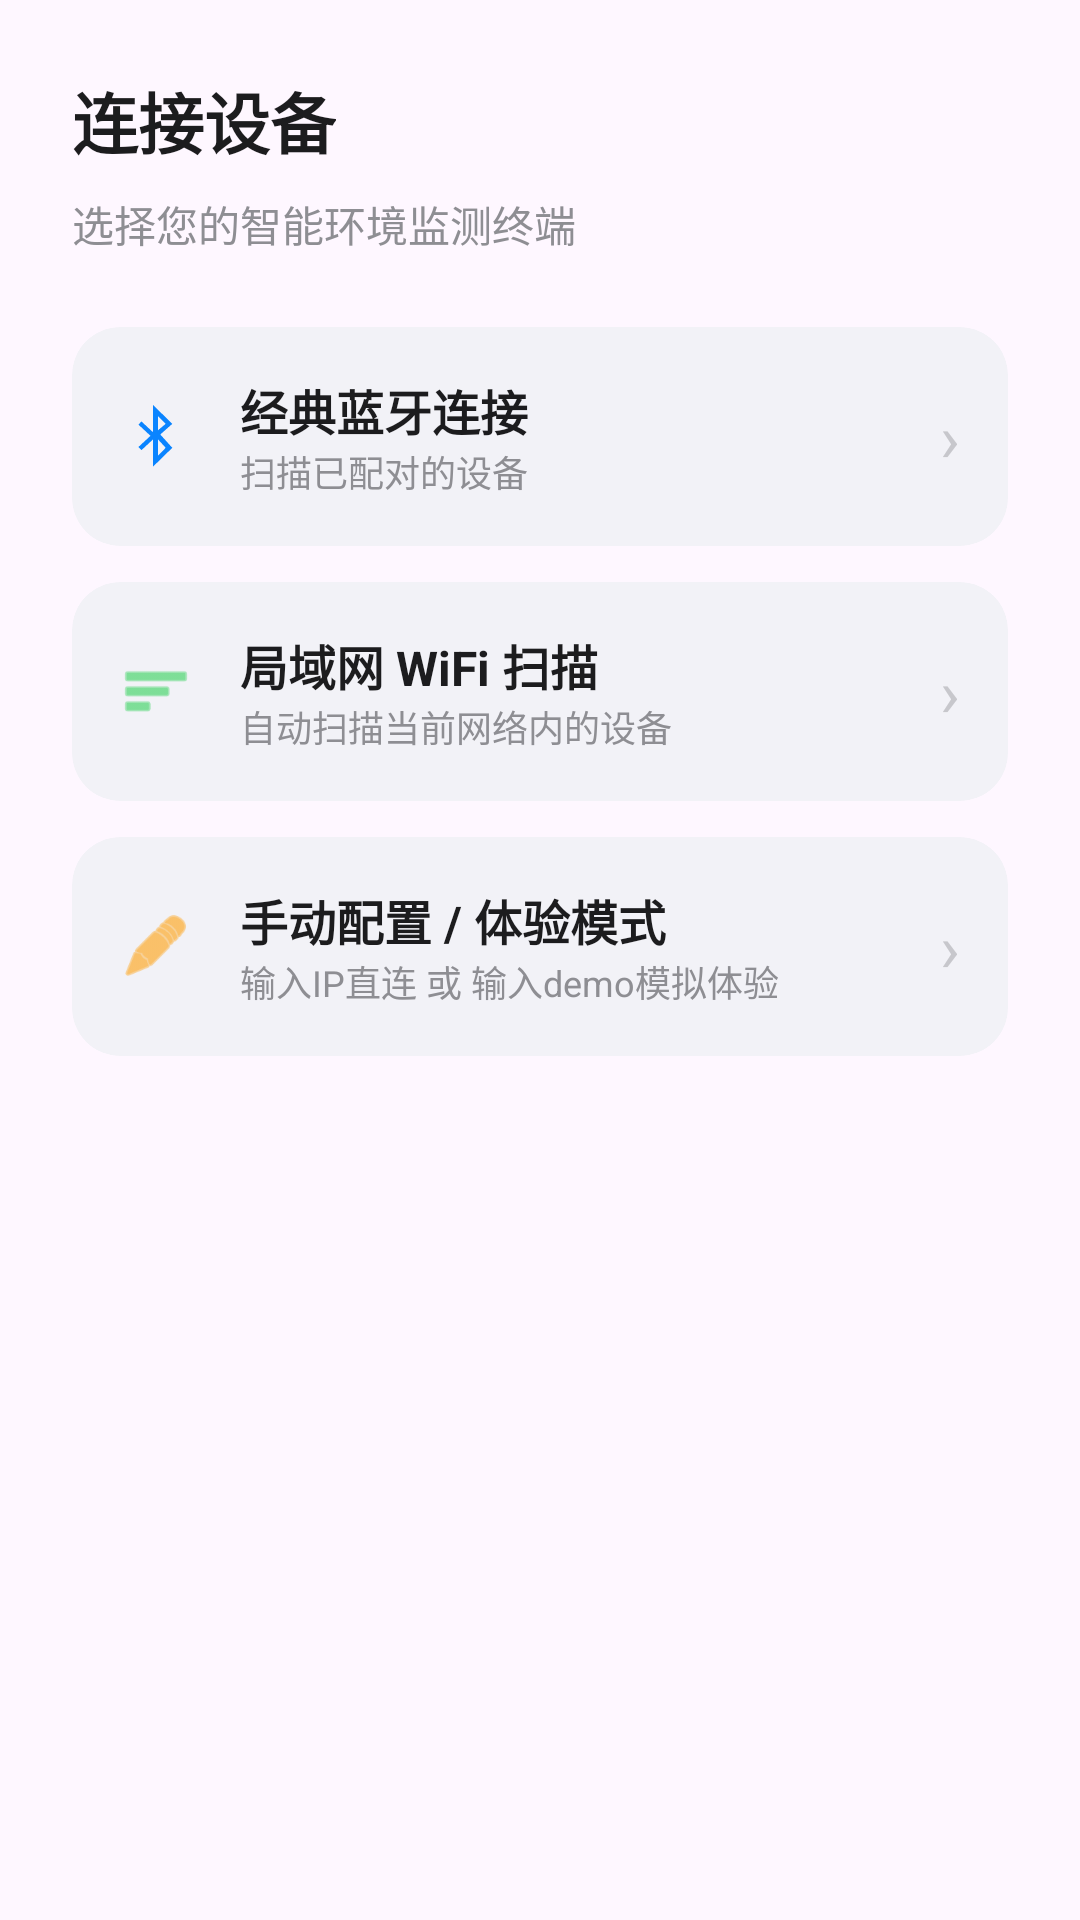

Point at icon controls on the screen. Image size 1080 × 1920, points as [x,y].
edit: [155,945]
sort by size: [156,691]
